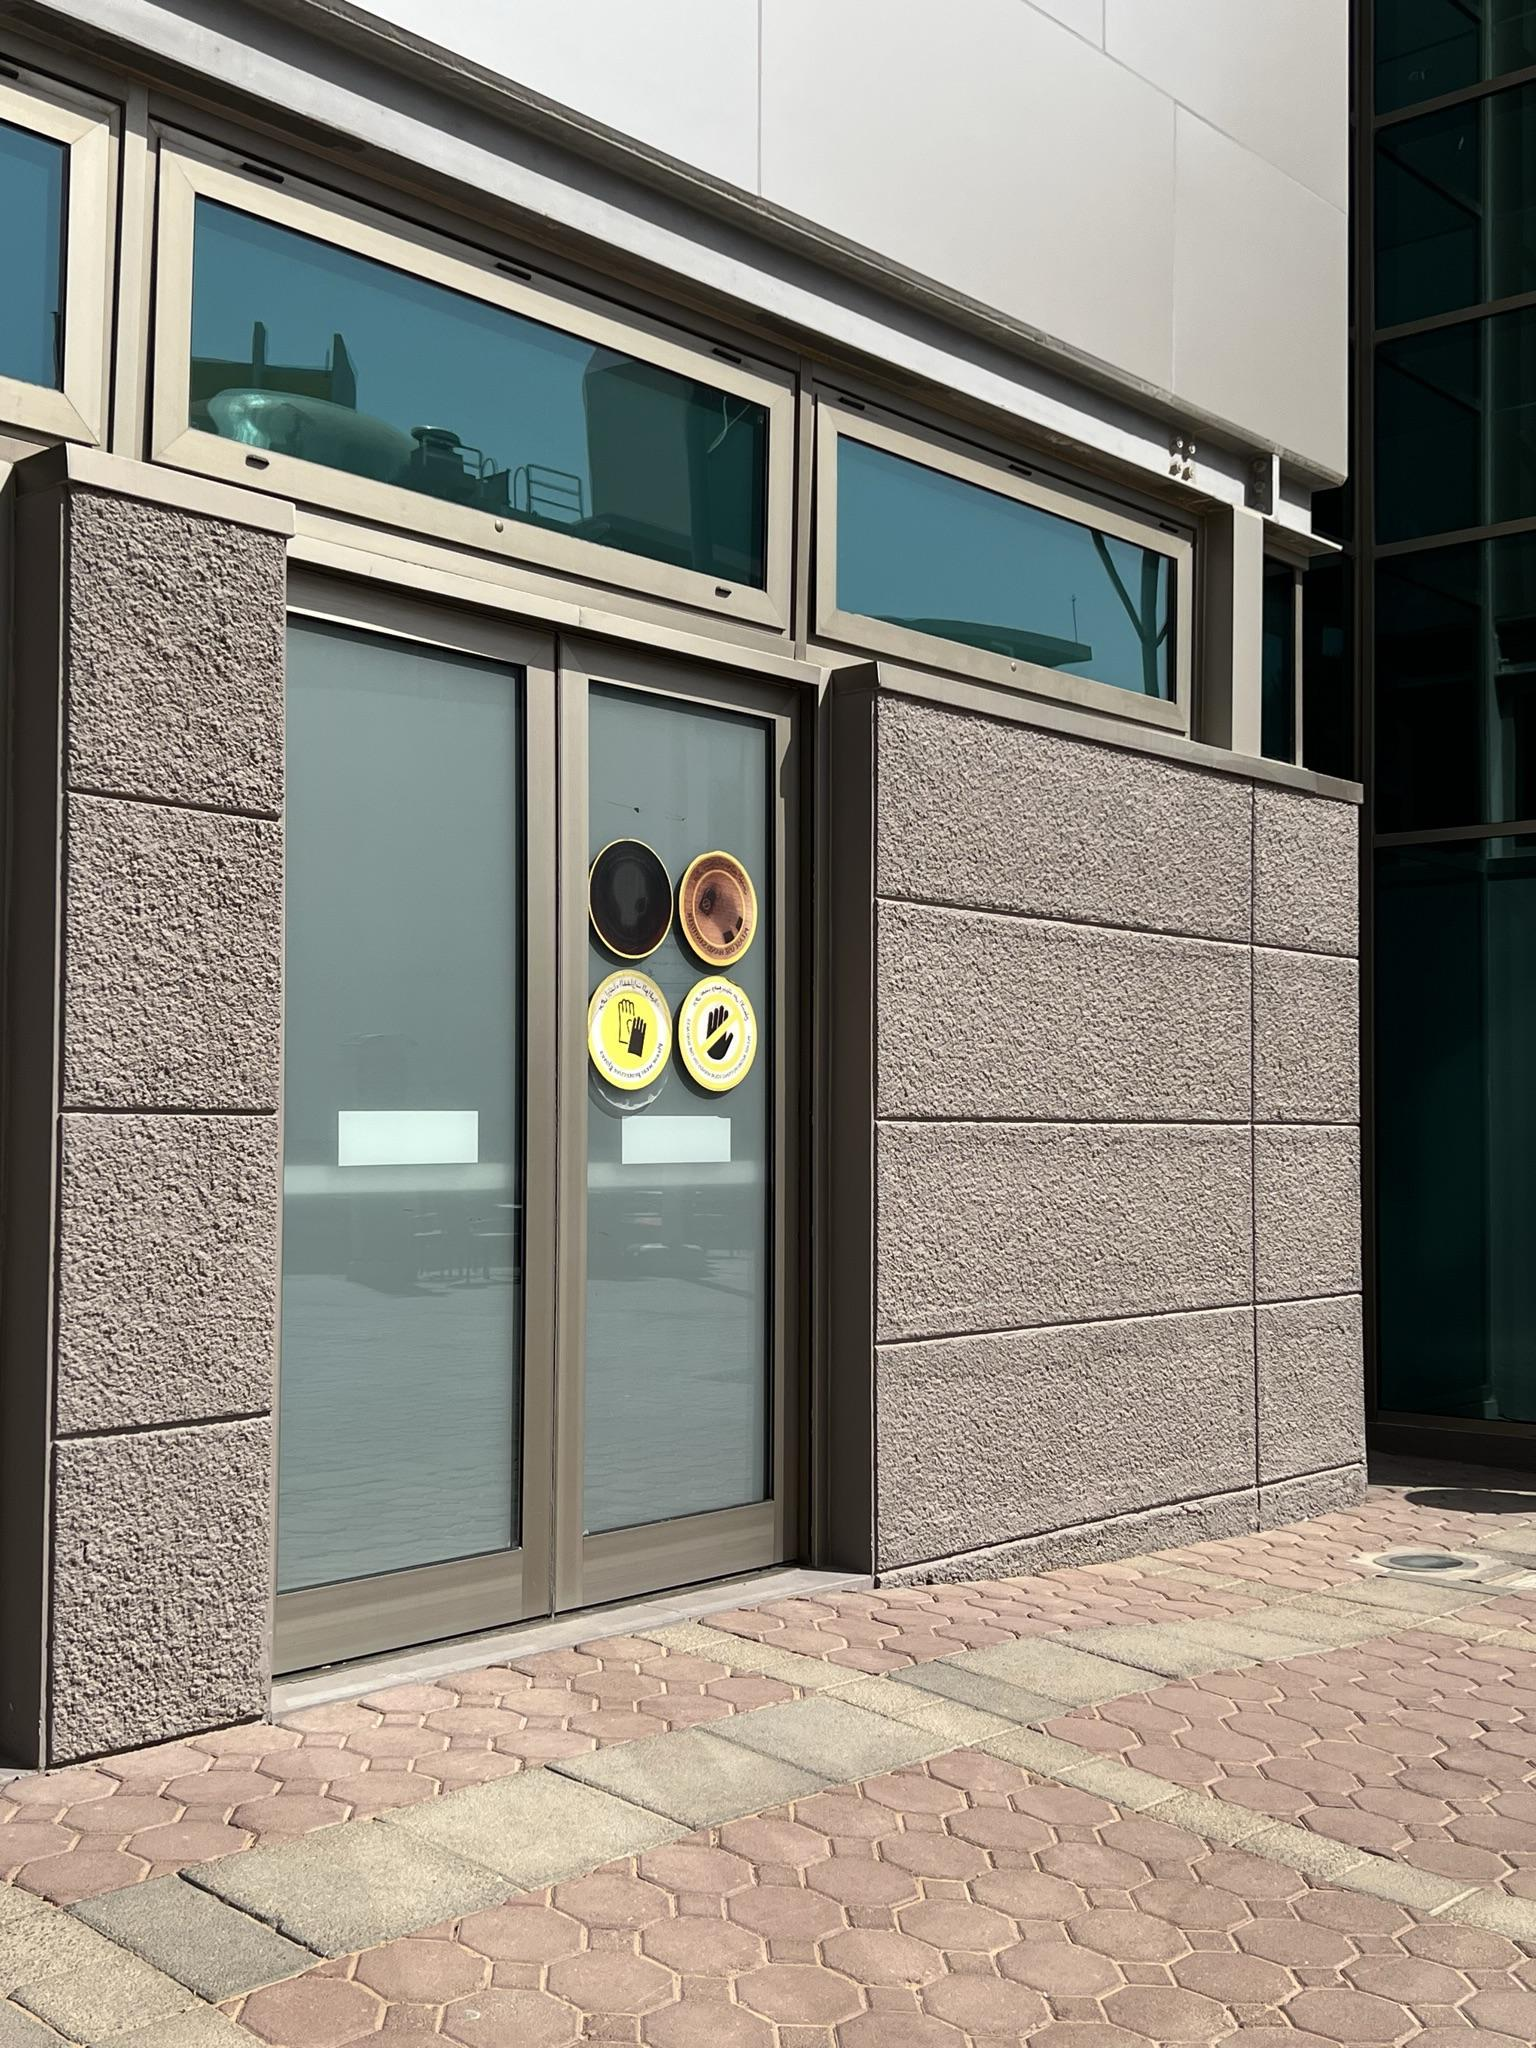door: (244, 616, 534, 1666), (515, 685, 803, 1593)
